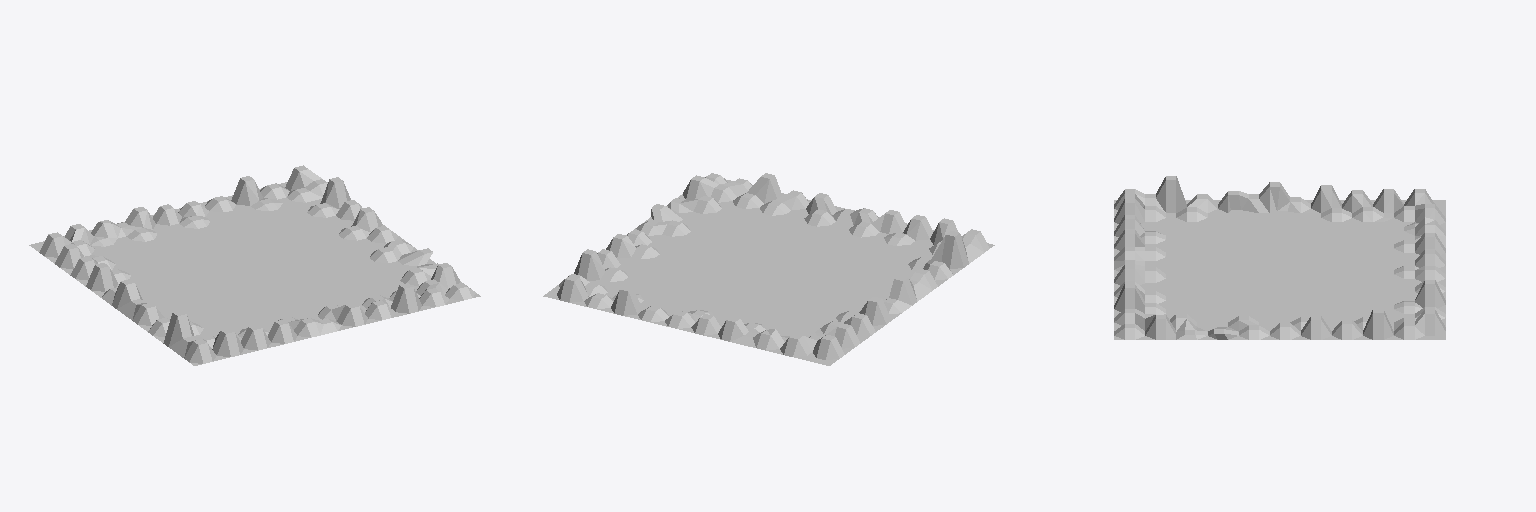
The model's file is Ground.obj.
The picture shows the model from 3 angles: view 1: azimuth 30°, elevation 25°; view 2: azimuth 150°, elevation 25°; view 3: azimuth 270°, elevation 25°; orthographic projection.
Parts seen in each view (by area): view 1: Ground; view 2: Ground; view 3: Ground.
Boxes of the visible parts, x1,y1,x2,y2 form: Ground: [29, 165, 480, 365]; Ground: [543, 173, 994, 365]; Ground: [1114, 176, 1445, 339].
Size of the model in its own units: 403 by 38.53 by 400.